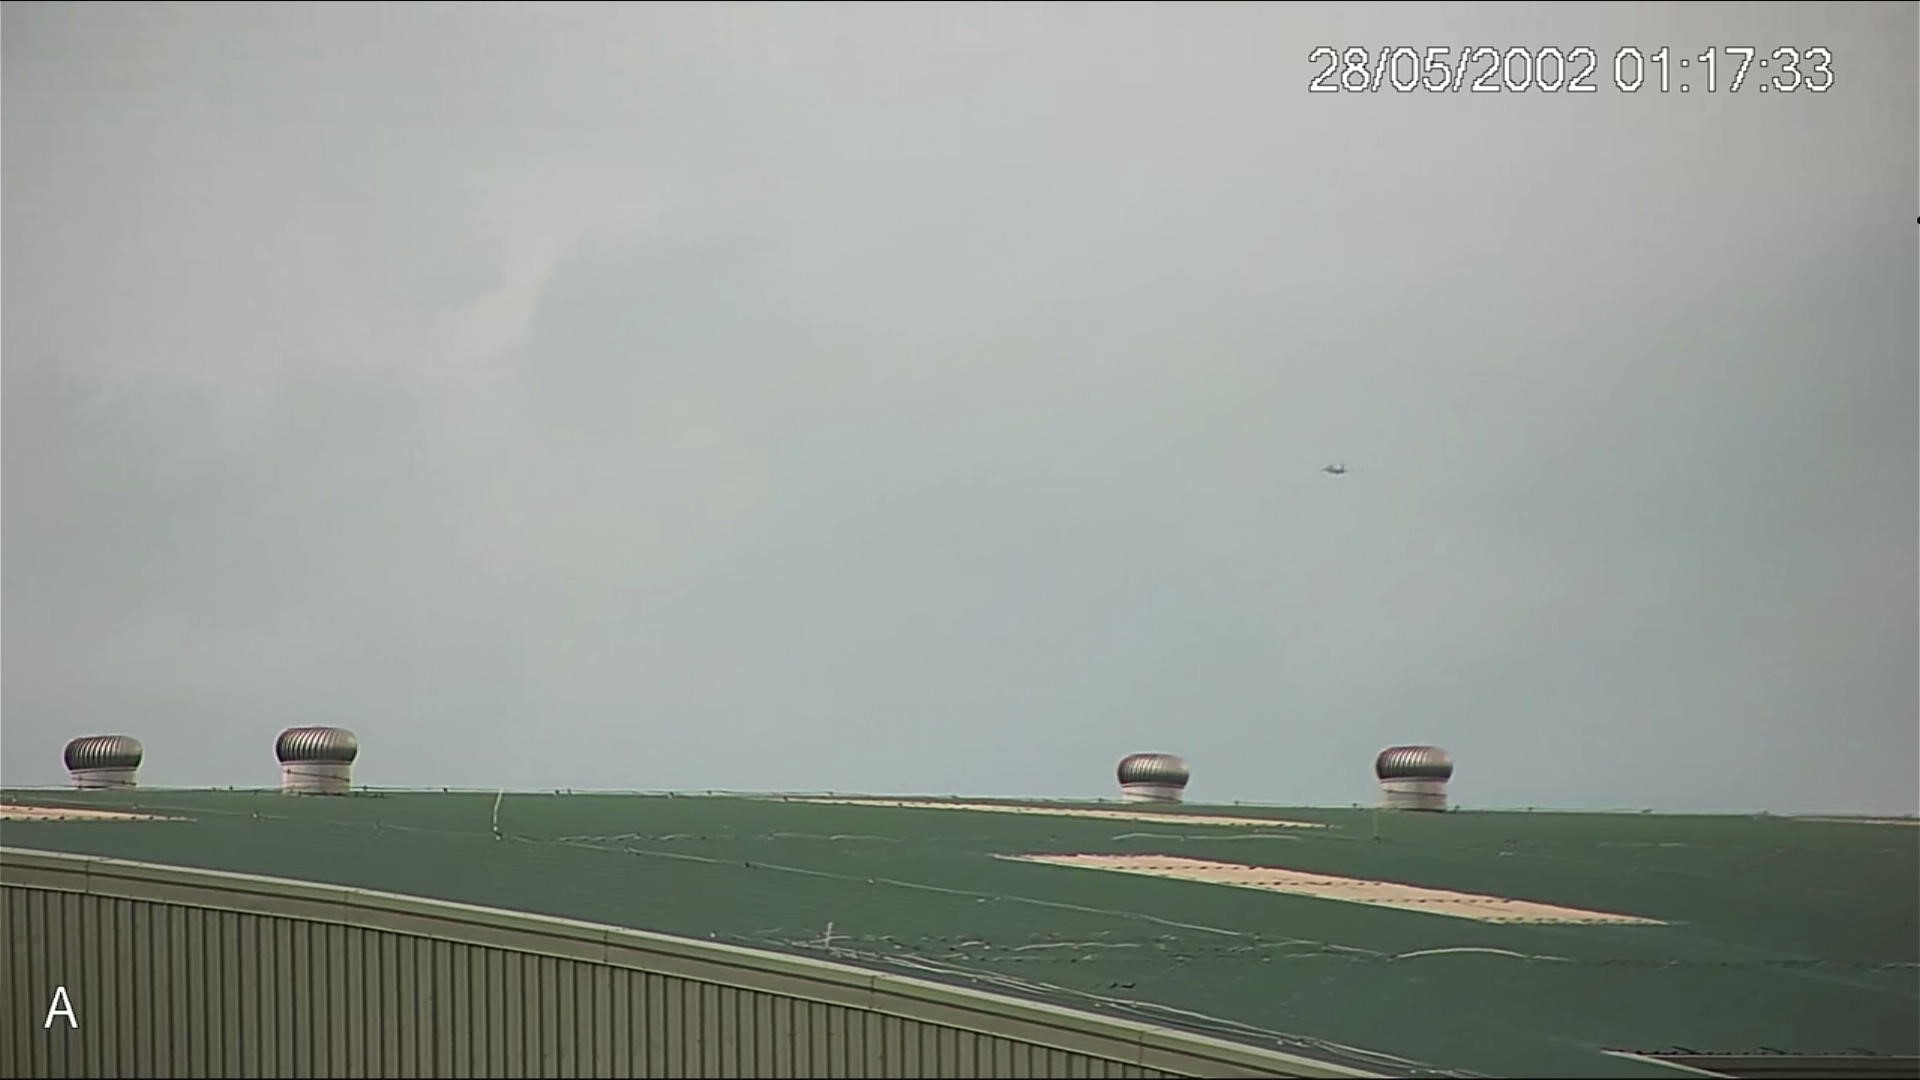SU_30: (1321, 460, 1345, 473)
